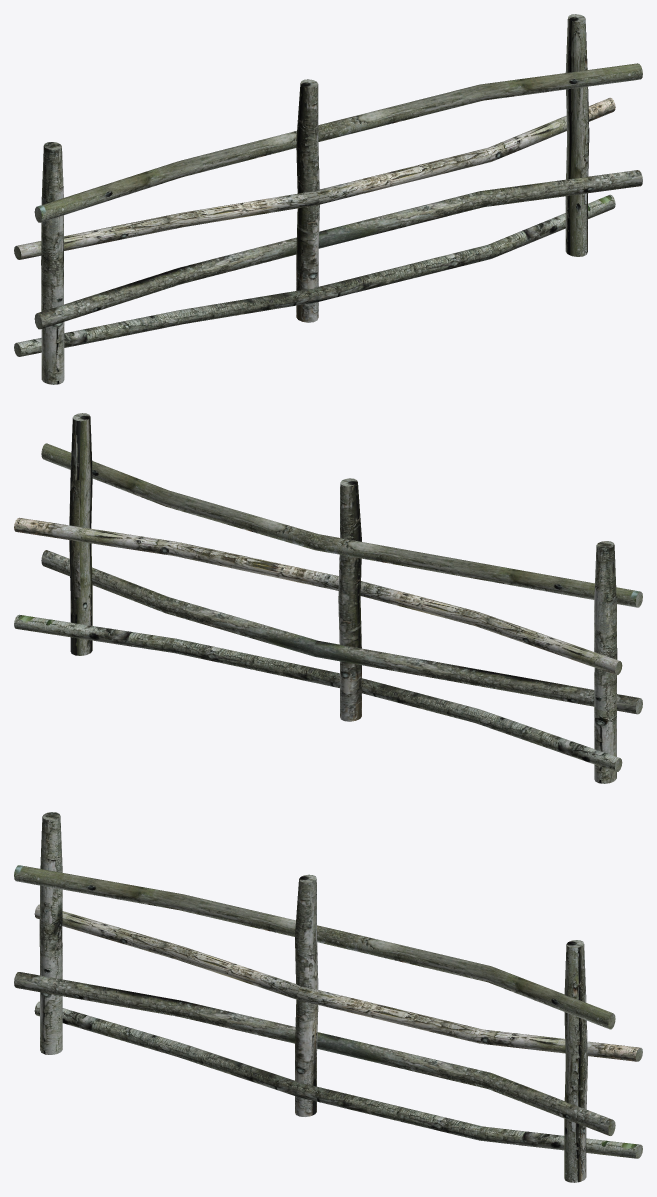
The model's file is fence1.obj.
3 renders of one model, top to bottom at view 1: azimuth 30°, elevation 25°; view 2: azimuth 150°, elevation 25°; view 3: azimuth 330°, elevation 25°, orthographic.
Visible parts, largest first — view 1: fence; view 2: fence; view 3: fence.
Part boxes in pixels (<box>): fence: <box>14,14,642,384</box>; fence: <box>14,413,642,783</box>; fence: <box>14,812,642,1182</box>.
Bounding box in the file's own units: 116 × 43.34 × 11.69.
